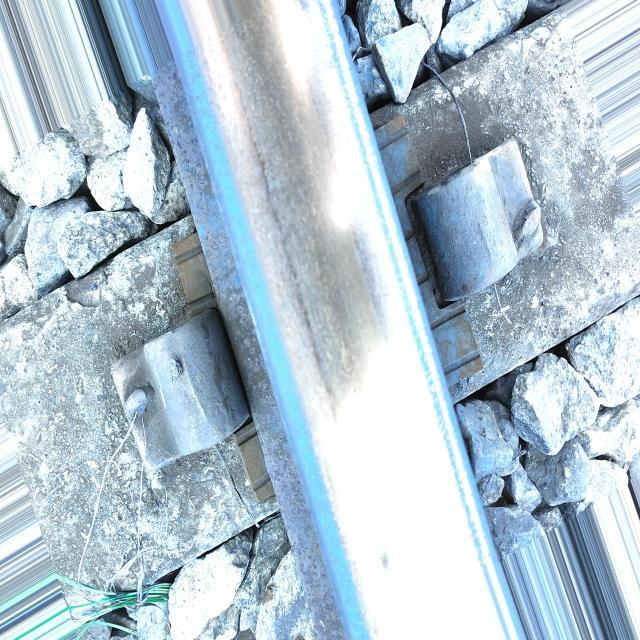Missing Fastener: (111, 309, 261, 548), (416, 141, 553, 301)
